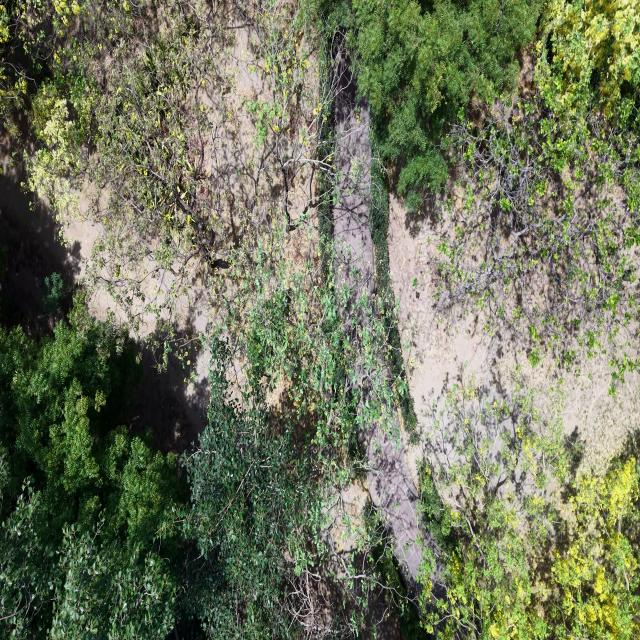DRY_AREA: (360, 194, 639, 593), (87, 2, 318, 340), (388, 184, 639, 471), (388, 193, 639, 471), (1, 167, 219, 452), (0, 163, 99, 331), (0, 164, 96, 333), (127, 284, 214, 454), (0, 158, 81, 332), (129, 313, 208, 453), (203, 29, 269, 196), (332, 65, 374, 326), (333, 83, 373, 302), (333, 84, 373, 299), (333, 85, 372, 298), (334, 86, 372, 295)
PATHWAYS: (333, 59, 374, 313)
VEGETATION_TREE: (0, 0, 639, 639), (1, 1, 399, 636), (342, 1, 639, 391), (344, 1, 639, 392), (0, 295, 318, 639), (1, 297, 317, 639), (2, 1, 320, 335), (438, 2, 639, 391), (0, 297, 184, 639), (437, 101, 639, 392), (419, 389, 639, 639), (184, 343, 322, 639), (347, 0, 540, 209), (421, 457, 639, 639), (534, 1, 639, 161)
